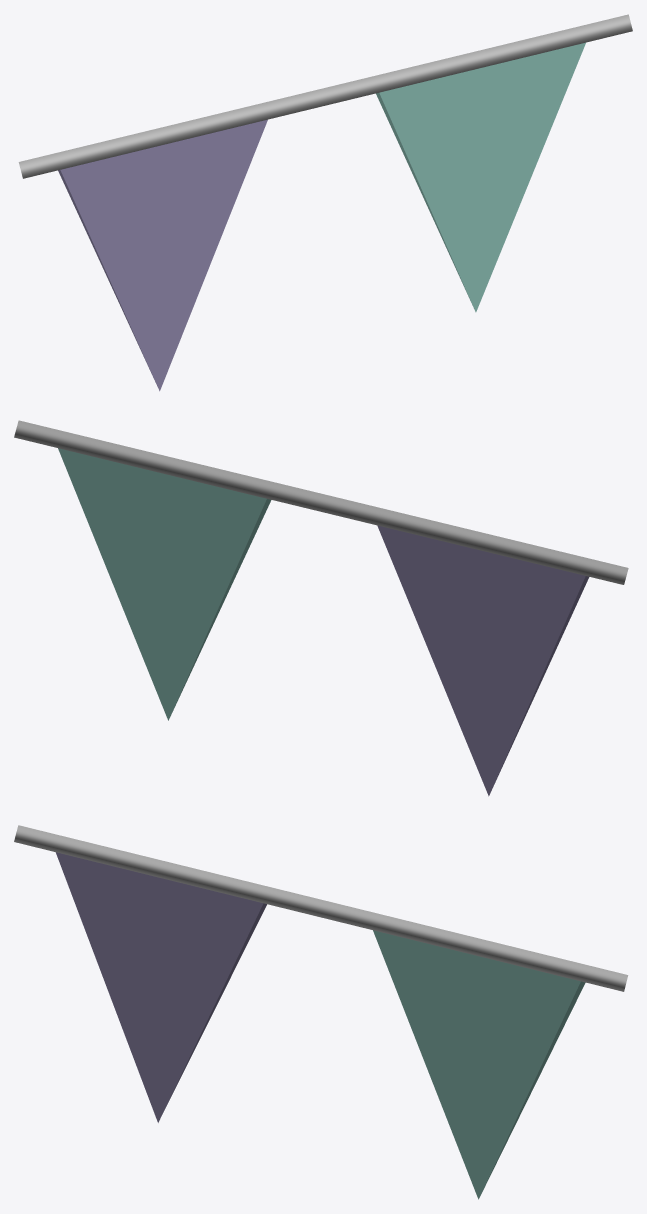
Rendered from BlizzardBeachPennantFlags.glb.
3 views of the same model, one above another, from view 1: azimuth 30°, elevation 25°; view 2: azimuth 150°, elevation 25°; view 3: azimuth 330°, elevation 25° (orthographic).
Parts seen in each view (by area): view 1: BlizzardBeachPennantFlags; view 2: BlizzardBeachPennantFlags; view 3: BlizzardBeachPennantFlags.
Part boxes in pixels (x1=…): BlizzardBeachPennantFlags: x1=18, y1=14, x2=632, y2=391; BlizzardBeachPennantFlags: x1=14, y1=420, x2=628, y2=796; BlizzardBeachPennantFlags: x1=14, y1=825, x2=628, y2=1199.
Bounding box in the file's own units: 0.9588 × 0.3963 × 0.0244.
